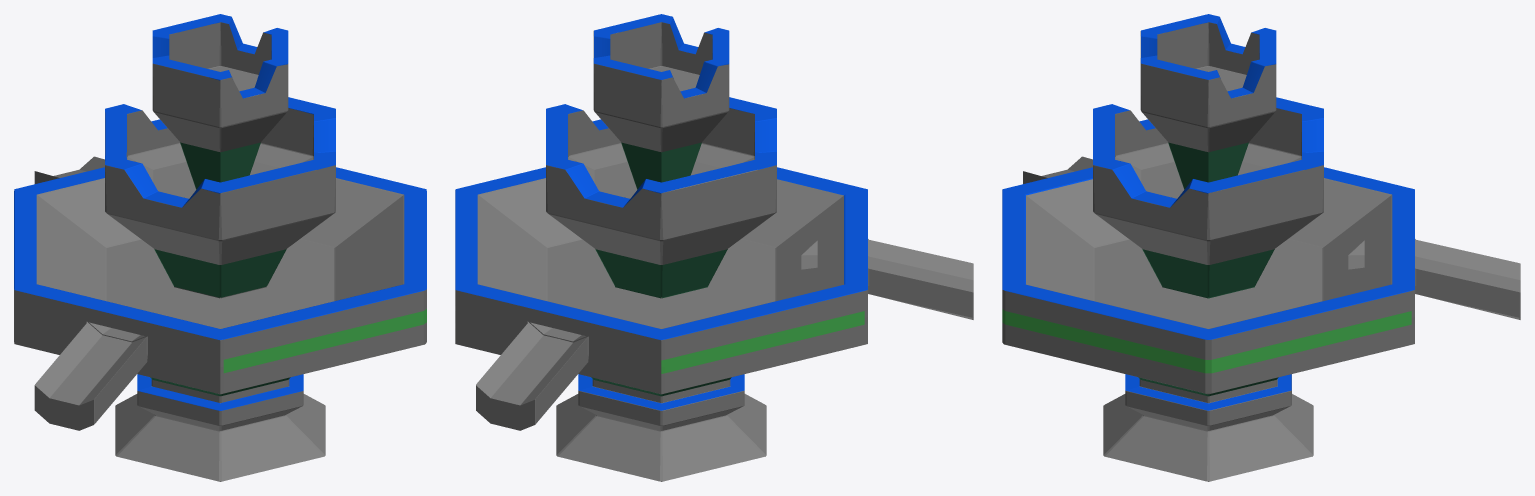
The model's file is Fontaine12.glb.
3 renders of one model, left to right at view 1: azimuth 30°, elevation 25°; view 2: azimuth 150°, elevation 25°; view 3: azimuth 270°, elevation 25°, orthographic.
Parts seen in each view (by area): view 1: Cylindre; view 2: Cylindre; view 3: Cylindre.
Boxes of the visible parts, box(x1,y1,x2,y2) form: Cylindre: box(14, 14, 426, 481); Cylindre: box(455, 14, 973, 481); Cylindre: box(1002, 14, 1520, 481).
Size of the model in its own units: 4.96 by 4 by 4.9.
